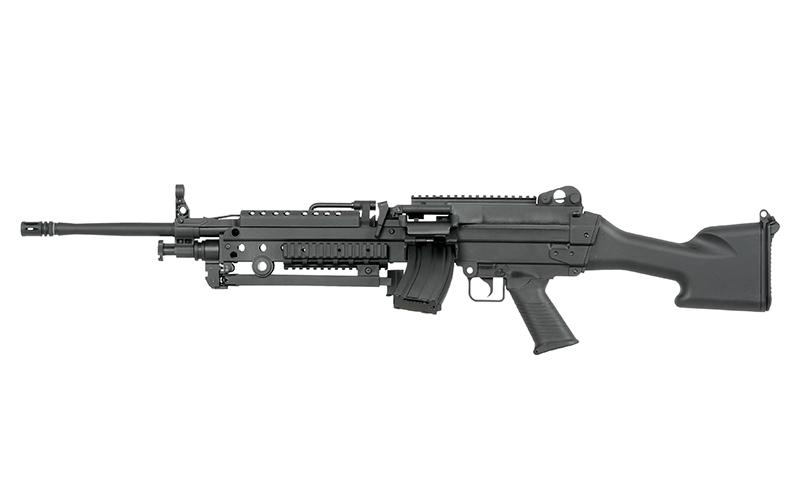larga: (20, 183, 780, 356)
